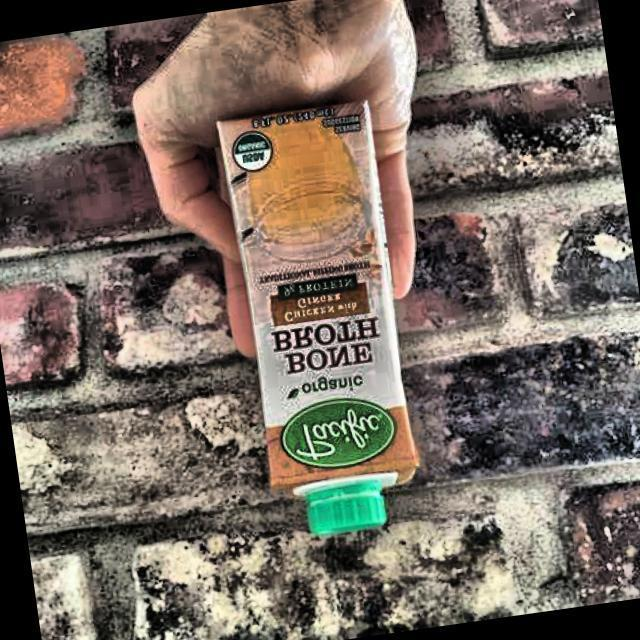cardboard: (213, 98, 427, 540)
